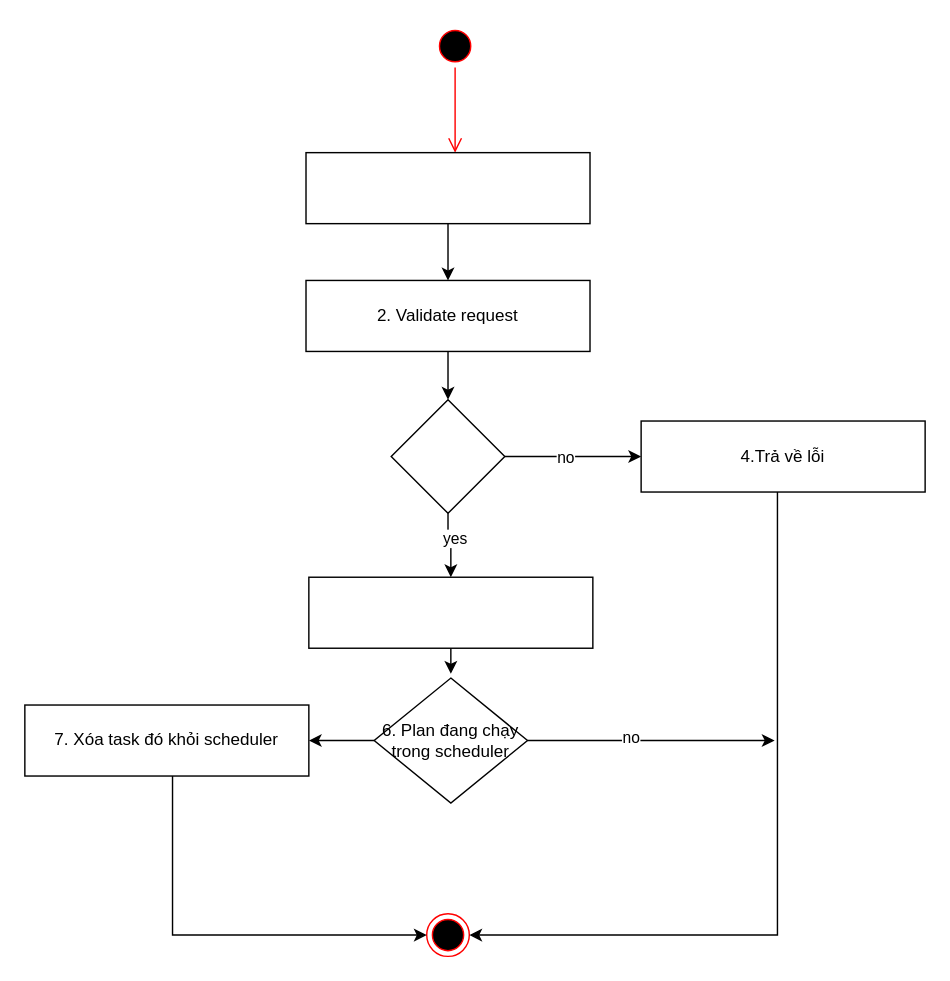
This 950x981 diagram has some shape labels left out. Each missing label, with the centre of its shape:
1. Client gửi yêu cầu delete task: the point at 447,187
3.Hợp lệ?: the point at 447,455
5. Backend đánh dấu plan vào db là bị xóa ( is_deleted = true).: the point at 450,612
